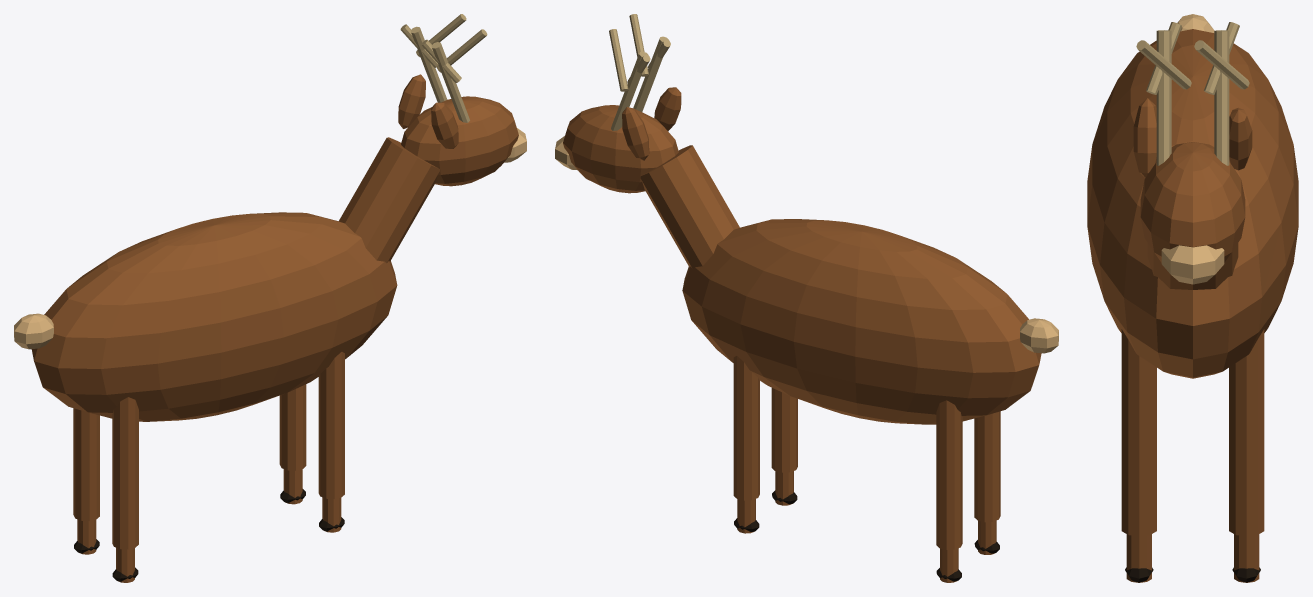
The model's file is deer.obj.
The picture shows the model from 3 angles, left to right: view 1: azimuth 30°, elevation 25°; view 2: azimuth 150°, elevation 25°; view 3: azimuth 270°, elevation 25°; orthographic projection. The views are drawn at different scales.
Parts seen in each view (by area): view 1: deer_body, neck, head, leg_upper_-0.42_0.13, leg_upper_0.38_0.13, leg_upper_-0.42_-0.13, leg_upper_0.38_-0.13, tail, ear_-0.11, ear_0.11, left_antler_main, right_antler_main; view 2: deer_body, neck, head, leg_upper_-0.42_-0.13, leg_upper_0.38_-0.13, leg_upper_-0.42_0.13, leg_upper_0.38_0.13, tail, ear_-0.11, ear_0.11, right_antler_main, left_antler_main; view 3: deer_body, head, leg_upper_0.38_-0.13, leg_upper_0.38_0.13, muzzle, right_antler_main, left_antler_main, ear_0.11, neck, ear_-0.11, leg_lower_0.38_-0.13, leg_lower_0.38_0.13 (+7 smaller).
Boxes of the visible parts, bbox=[...] form: deer_body: bbox=[31, 212, 397, 421]; neck: bbox=[339, 137, 439, 263]; head: bbox=[401, 96, 518, 186]; leg_upper_-0.42_0.13: bbox=[112, 397, 138, 549]; leg_upper_0.38_0.13: bbox=[318, 352, 344, 498]; leg_upper_-0.42_-0.13: bbox=[73, 408, 99, 520]; leg_upper_0.38_-0.13: bbox=[279, 384, 306, 470]; tail: bbox=[14, 313, 53, 349]; ear_-0.11: bbox=[398, 74, 425, 128]; ear_0.11: bbox=[431, 102, 458, 148]; left_antler_main: bbox=[431, 42, 469, 122]; right_antler_main: bbox=[410, 26, 447, 102]; deer_body: bbox=[682, 219, 1041, 424]; neck: bbox=[640, 145, 739, 268]; head: bbox=[563, 105, 678, 193]; leg_upper_-0.42_-0.13: bbox=[936, 400, 962, 549]; leg_upper_0.38_-0.13: bbox=[733, 356, 759, 500]; leg_upper_-0.42_0.13: bbox=[974, 411, 1000, 522]; leg_upper_0.38_0.13: bbox=[771, 388, 797, 472]; tail: bbox=[1020, 318, 1058, 353]; ear_-0.11: bbox=[622, 107, 649, 160]; ear_0.11: bbox=[654, 87, 681, 131]; right_antler_main: bbox=[611, 51, 648, 130]; left_antler_main: bbox=[633, 36, 669, 111]; deer_body: bbox=[1087, 29, 1298, 378]; head: bbox=[1140, 142, 1245, 262]; leg_upper_0.38_-0.13: bbox=[1229, 329, 1264, 536]; leg_upper_0.38_0.13: bbox=[1121, 329, 1156, 536]; muzzle: bbox=[1161, 245, 1224, 284]; right_antler_main: bbox=[1214, 30, 1229, 165]; left_antler_main: bbox=[1156, 30, 1171, 165]; ear_0.11: bbox=[1133, 98, 1156, 177]; neck: bbox=[1147, 141, 1238, 289]; ear_-0.11: bbox=[1229, 107, 1252, 170]; leg_lower_0.38_-0.13: bbox=[1234, 534, 1259, 582]; leg_lower_0.38_0.13: bbox=[1126, 534, 1151, 582].
Size of the model in its own units: 1.98 by 1.71 by 0.5121.
